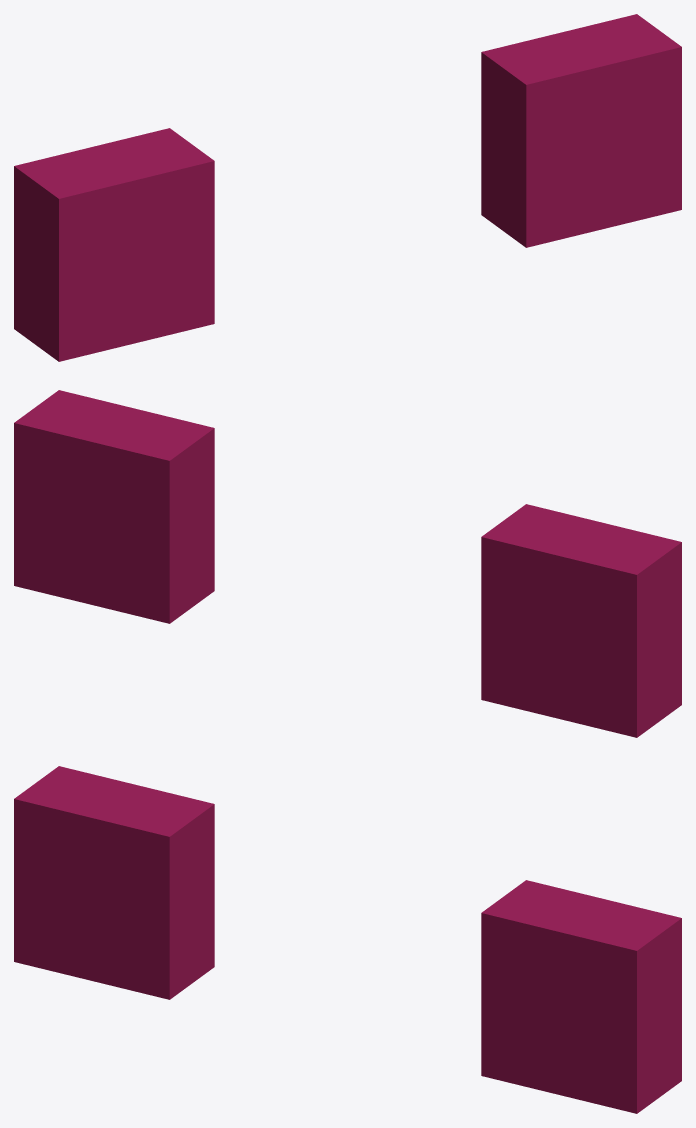
File: nave2-rosa.obj
3 renders of one model, top to bottom at view 1: azimuth 30°, elevation 25°; view 2: azimuth 150°, elevation 25°; view 3: azimuth 330°, elevation 25°, orthographic.
Size of the model in its own units: 0.8 by 0.2 by 0.1.
1 material, 1 textured.
